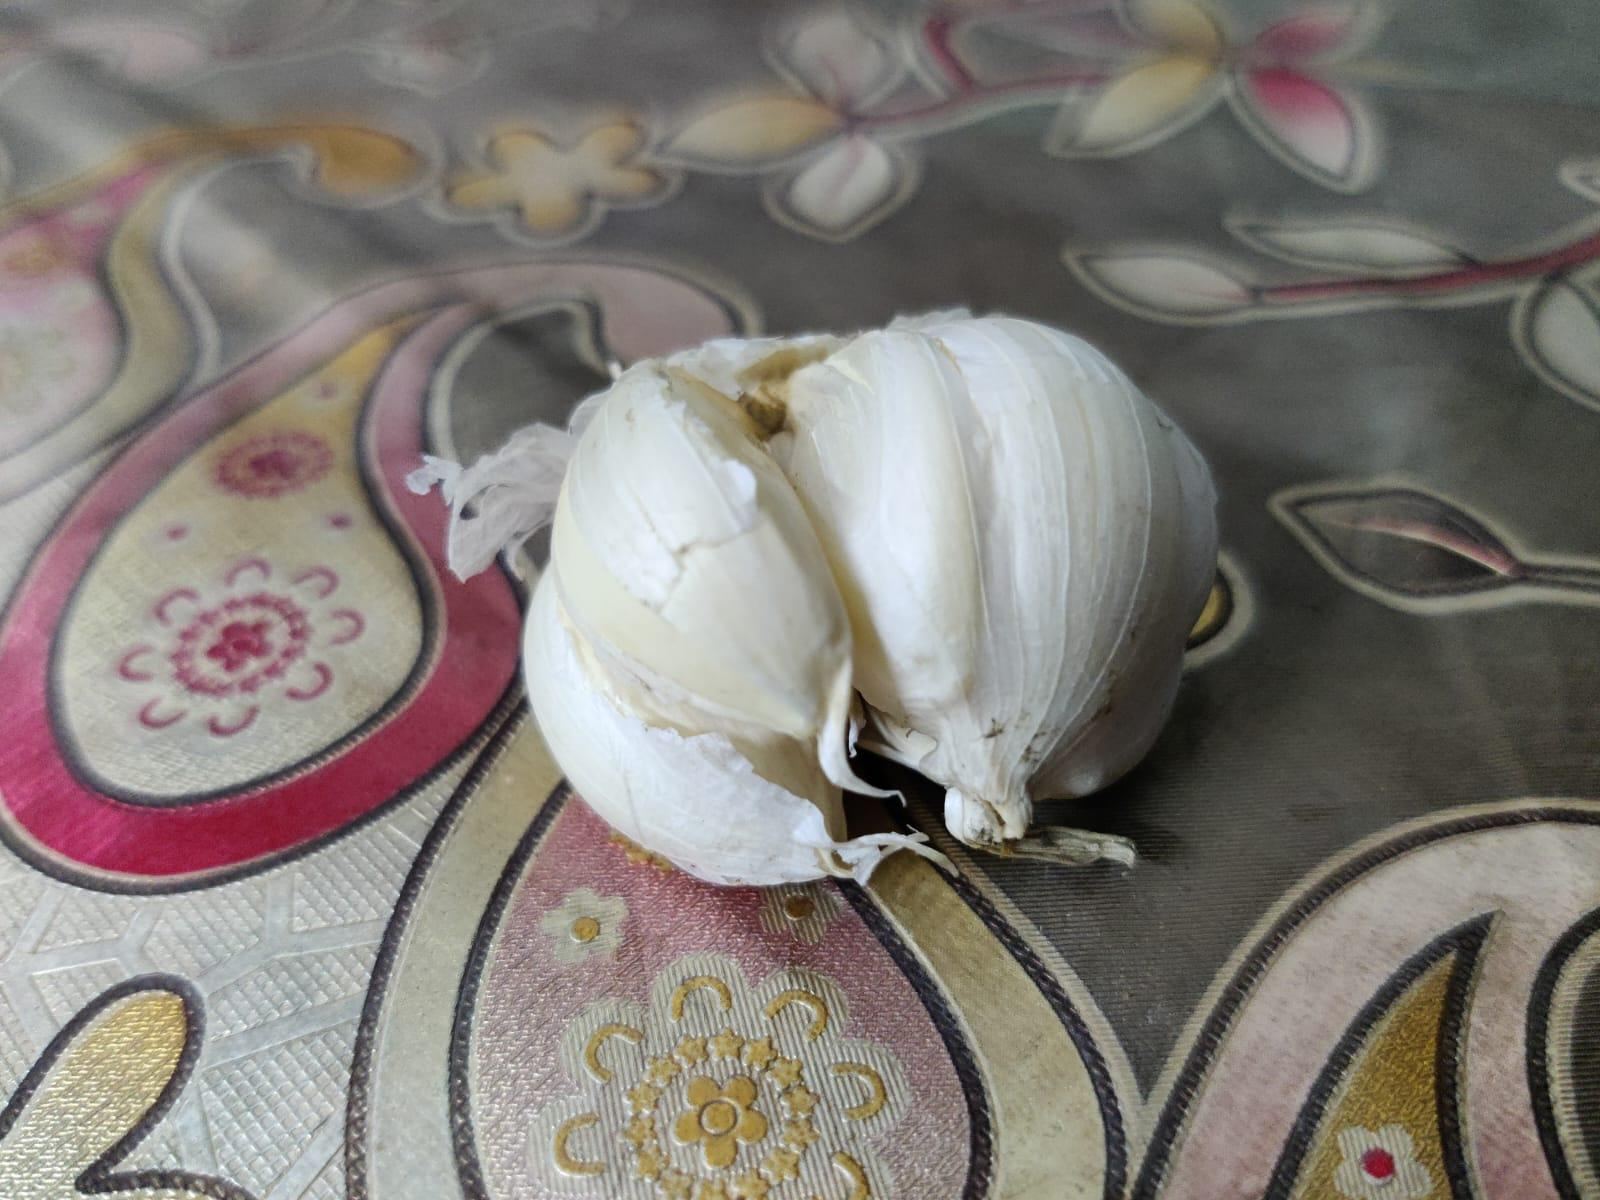non-mango: (527, 301, 1209, 908)
